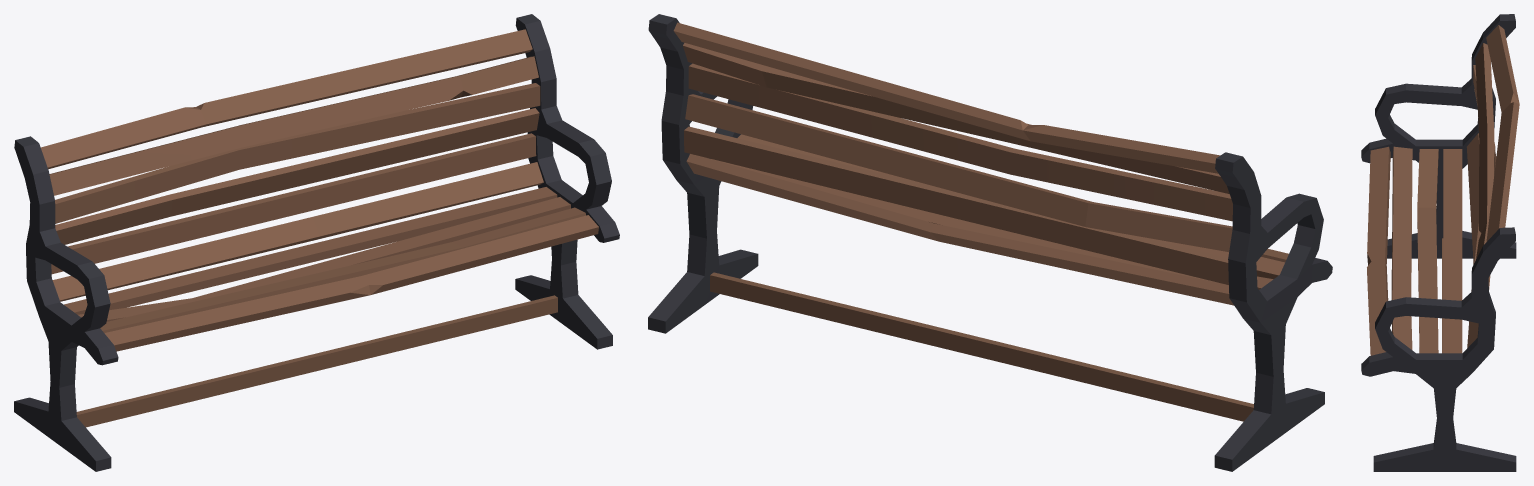
Rendered from bench_03.fbx.
3 views of the same model, side by side, from view 1: azimuth 30°, elevation 25°; view 2: azimuth 150°, elevation 25°; view 3: azimuth 270°, elevation 25° (orthographic). The views are drawn at different scales.
Visible parts, largest first — view 1: Bench_3; view 2: Bench_3; view 3: Bench_3.
Boxes of the visible parts, x1=… form: Bench_3: x1=14, y1=14, x2=619, y2=471; Bench_3: x1=648, y1=14, x2=1332, y2=471; Bench_3: x1=1361, y1=14, x2=1519, y2=471.
Size of the model in its own units: 0.4057 by 0.2045 by 0.1234.
Materials: 1 (1 with a texture image).
